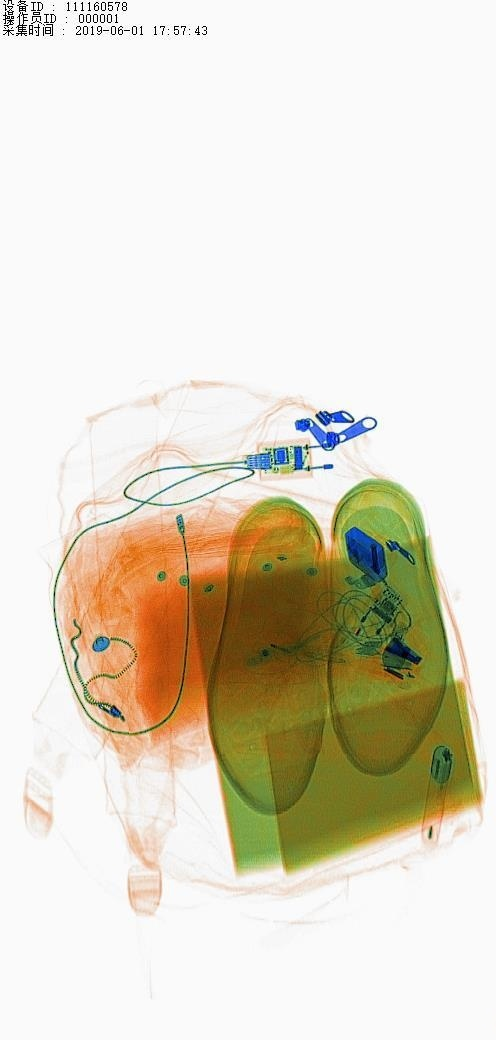NonmetallicFire: (413, 728, 475, 856)
